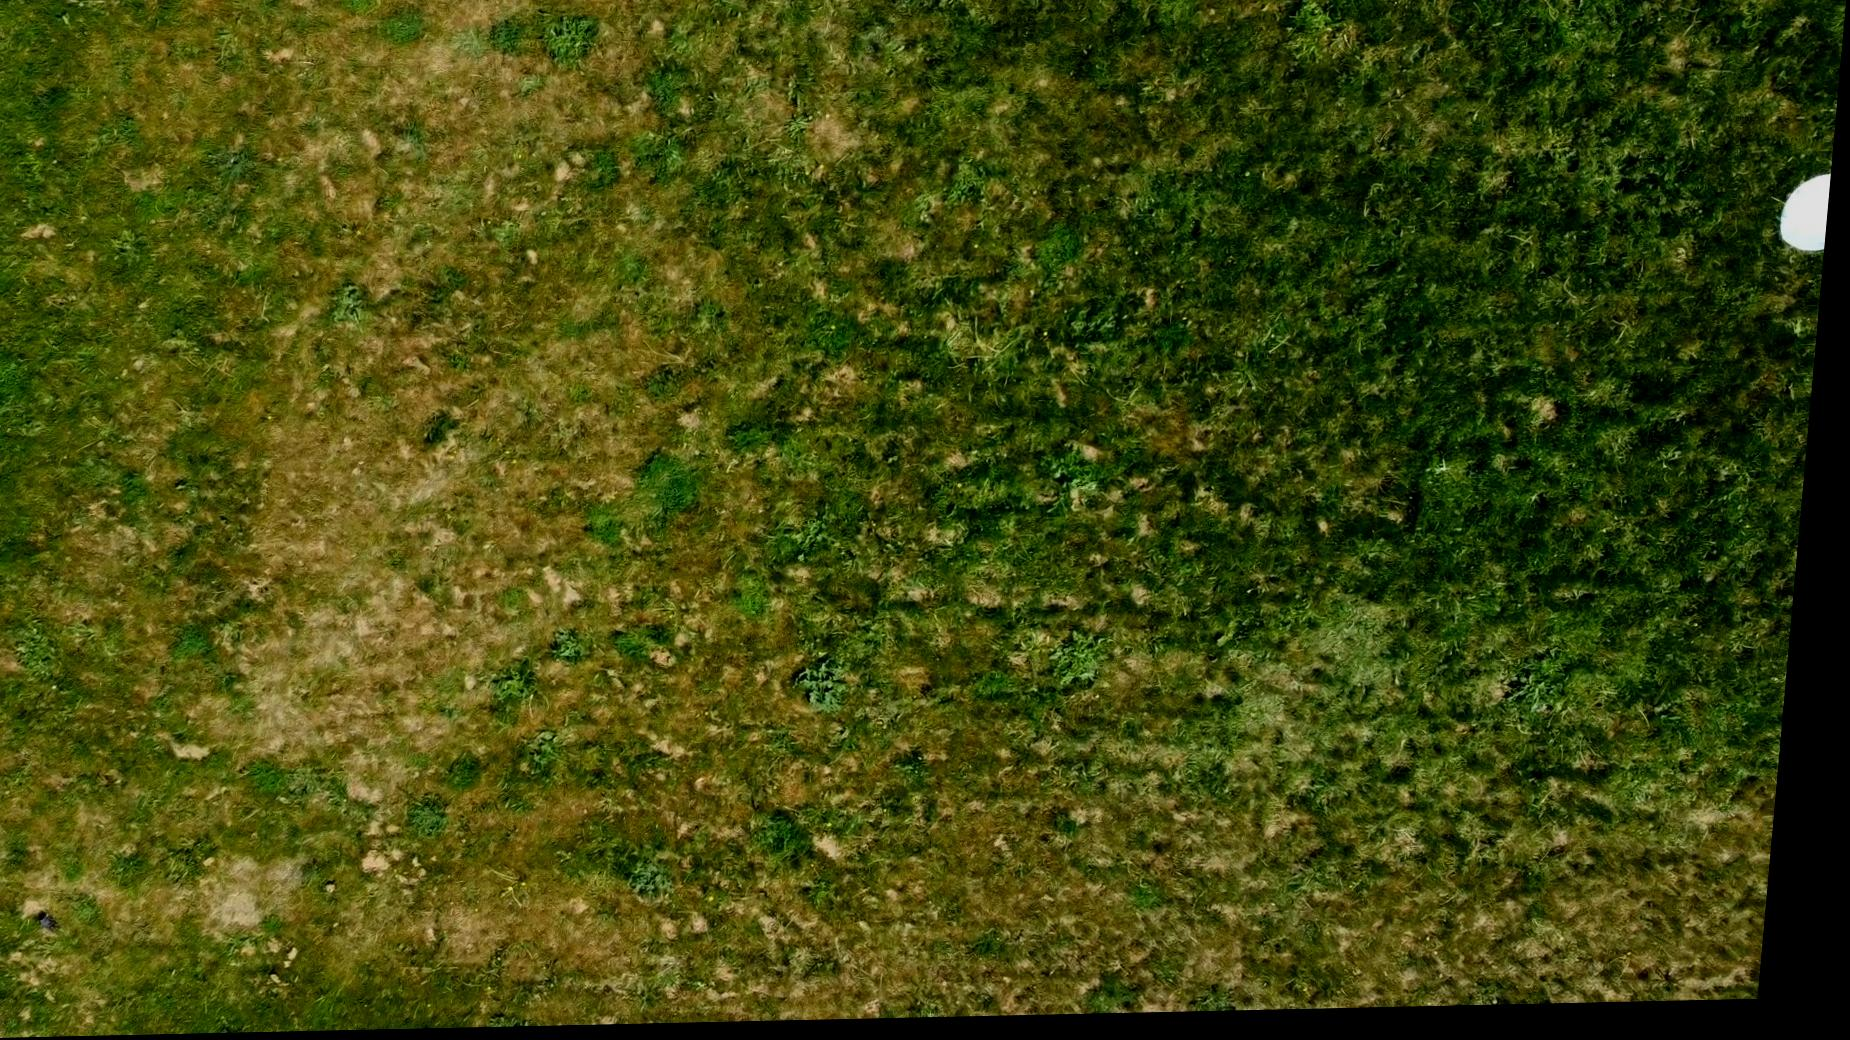Blue: (1781, 169, 1836, 268)
